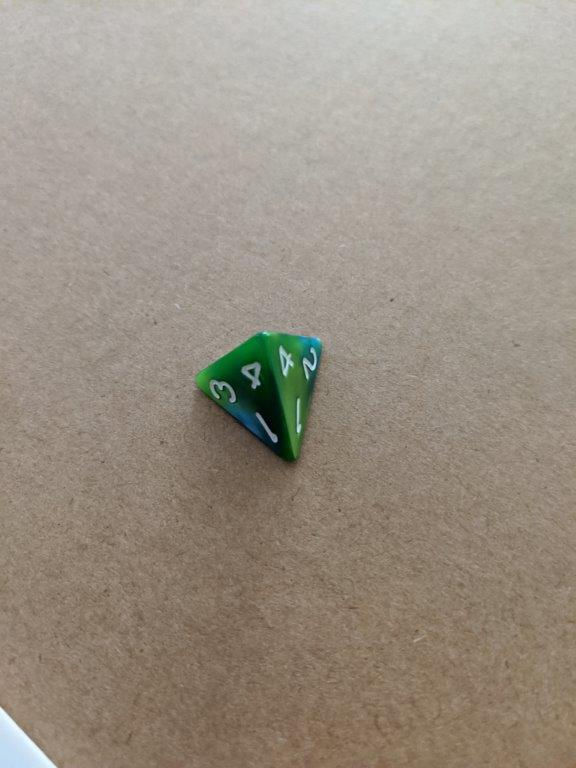d4-4: (194, 329, 323, 465)
